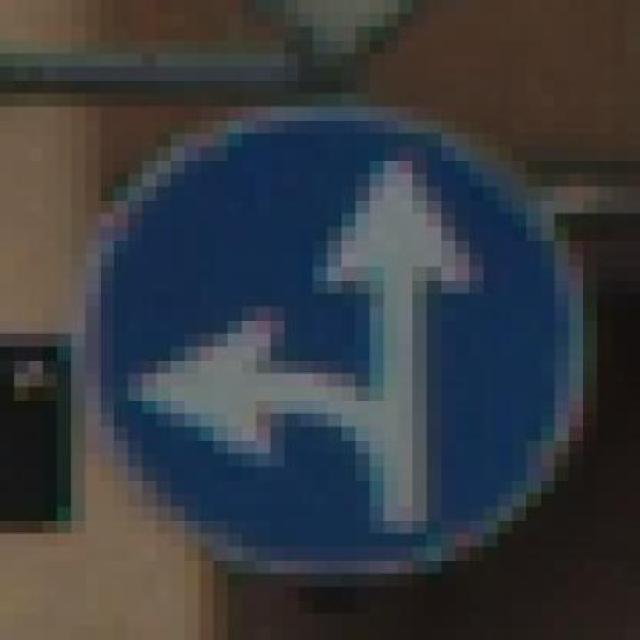Go straight or turn left: (56, 93, 612, 601)
